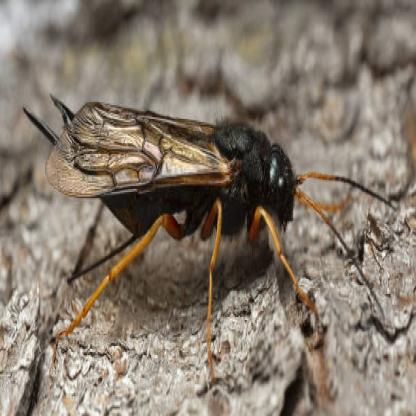sawfly: (19, 84, 398, 384)
